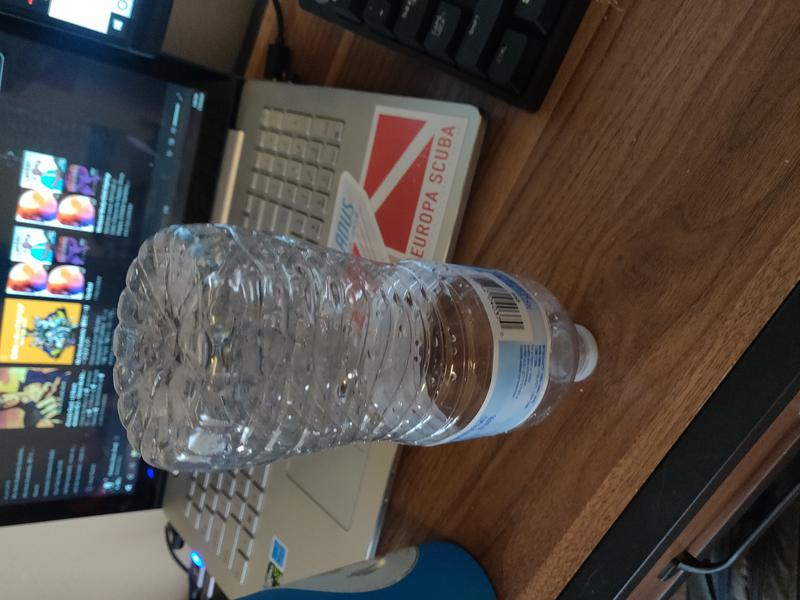bottle: (111, 221, 600, 476)
